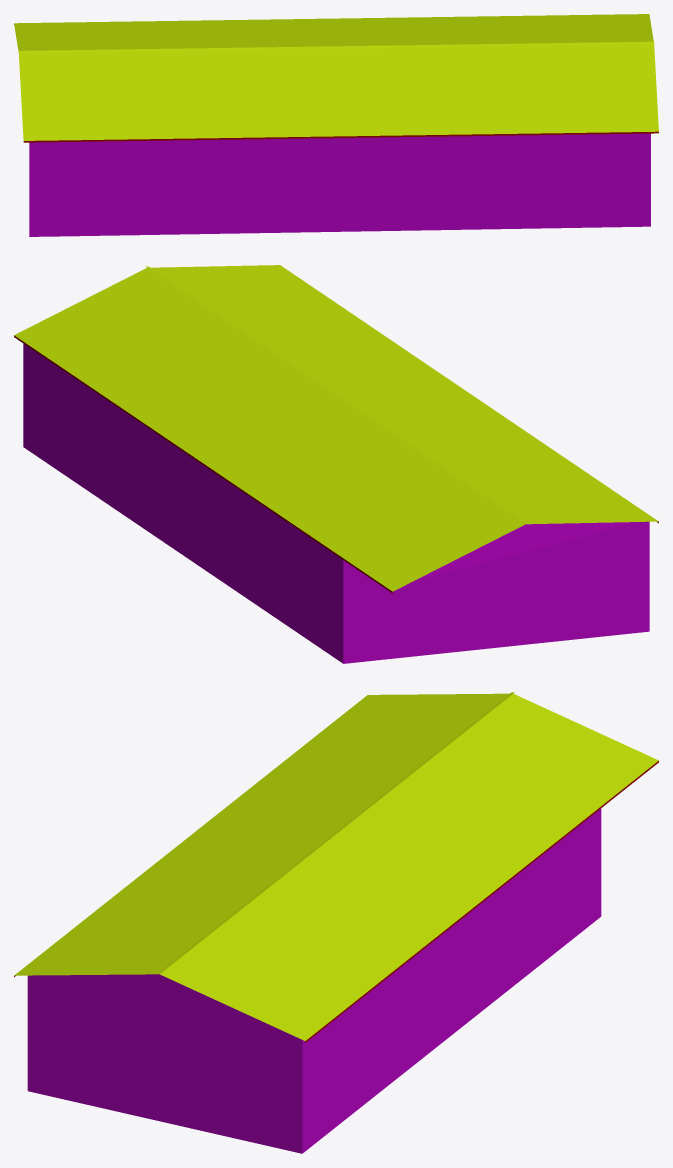
File: ssv_44.glb
3 views of the same model, one above another, from view 1: azimuth 30°, elevation 25°; view 2: azimuth 150°, elevation 25°; view 3: azimuth 270°, elevation 25° (orthographic). The views are drawn at different scales.
Parts seen in each view (by area): view 1: ssv_44; view 2: ssv_44; view 3: ssv_44.
Boxes of the visible parts, x1,y1,x2,y2 form: ssv_44: (14,14,658,236); ssv_44: (14,265,658,663); ssv_44: (14,692,658,1153).
Size of the model in its own units: 45.59 by 9.38 by 35.89.
